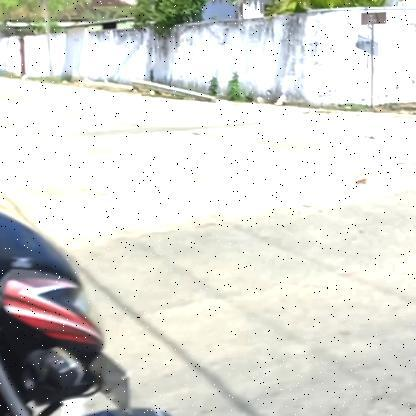motorcycle: (0, 132, 239, 416)
